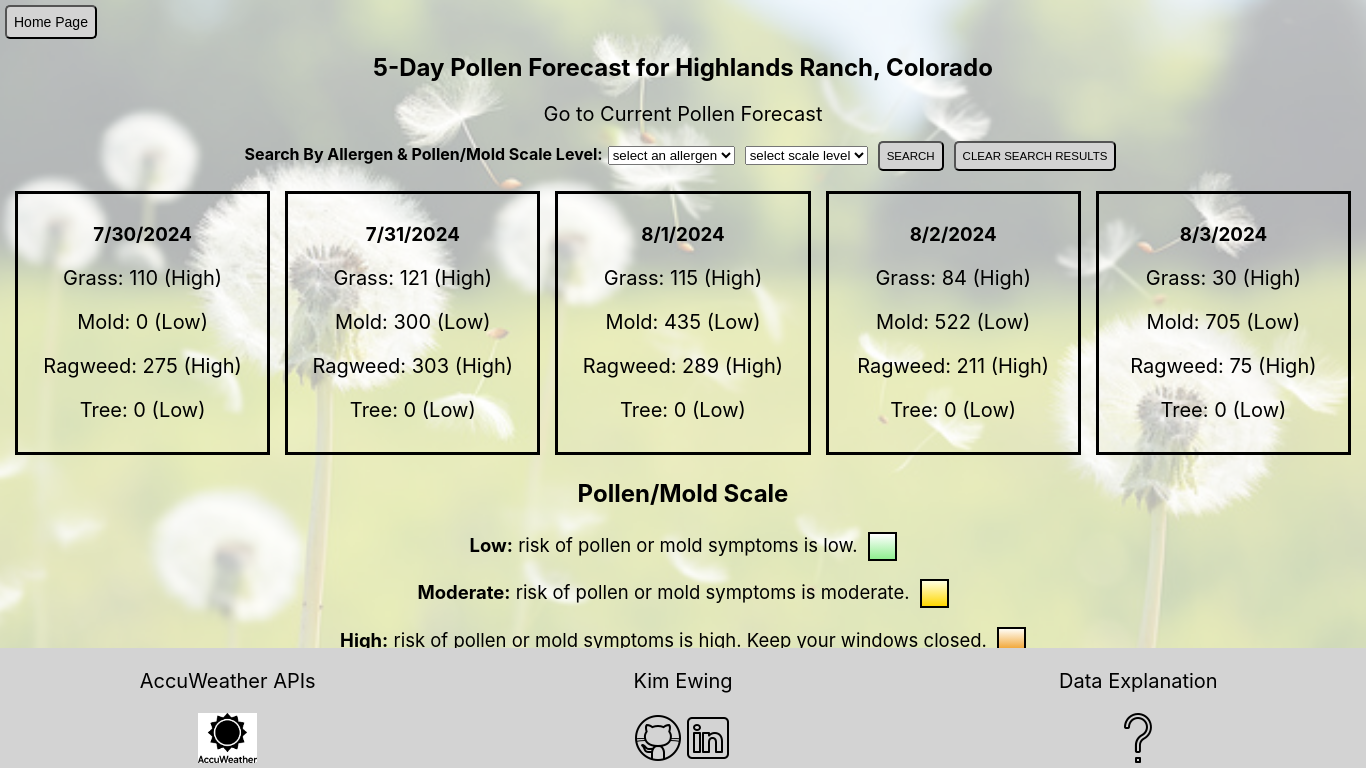
it: 5-Day Pollen Forecast Page Tests › should select an allergen and a pollen/mold scale level in the drop down and hit submit, returning a message if no pollen forecasts meet the search criteria
Select "Ragweed" in the dropdown with class "allergen-drop-down" at (672, 156), box [608,146,735,165]
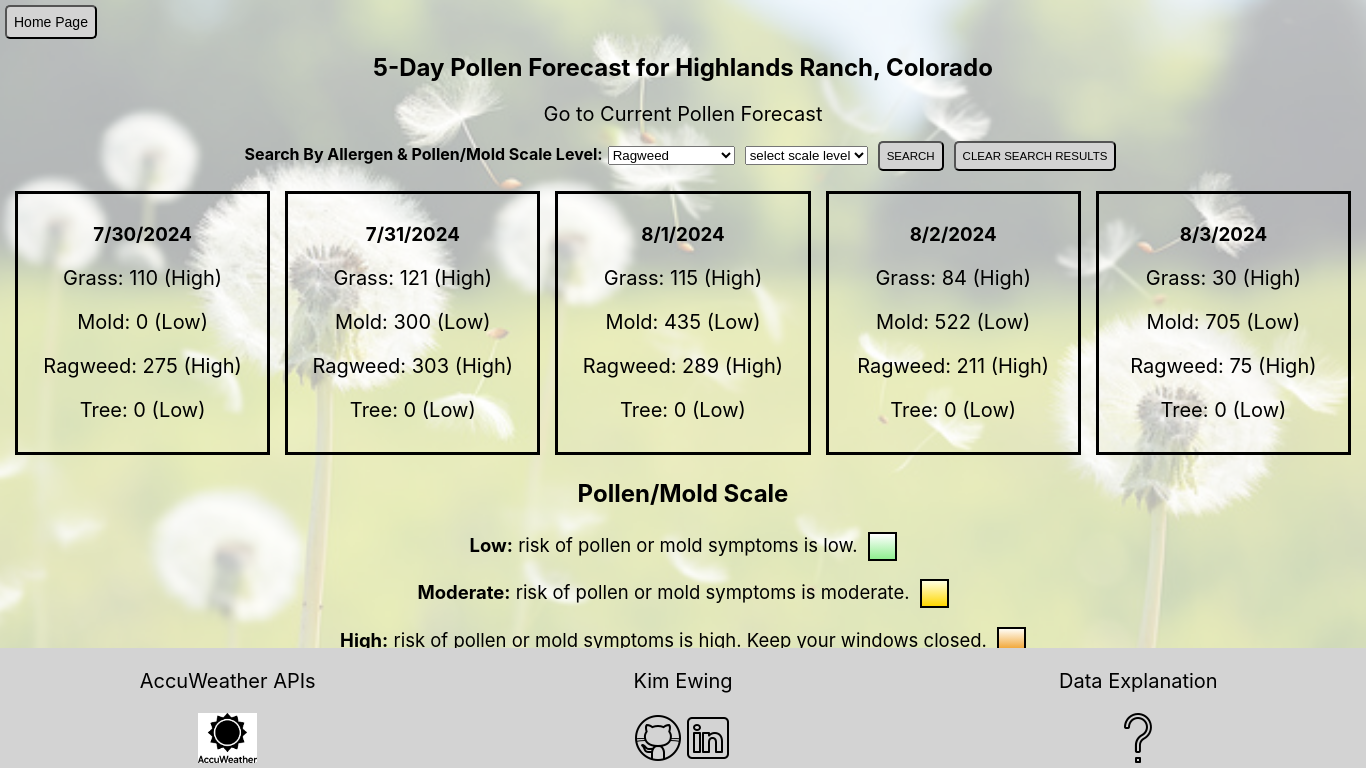
Select "Moderate" in the 2nd dropdown at (807, 156), box [745,146,868,165]
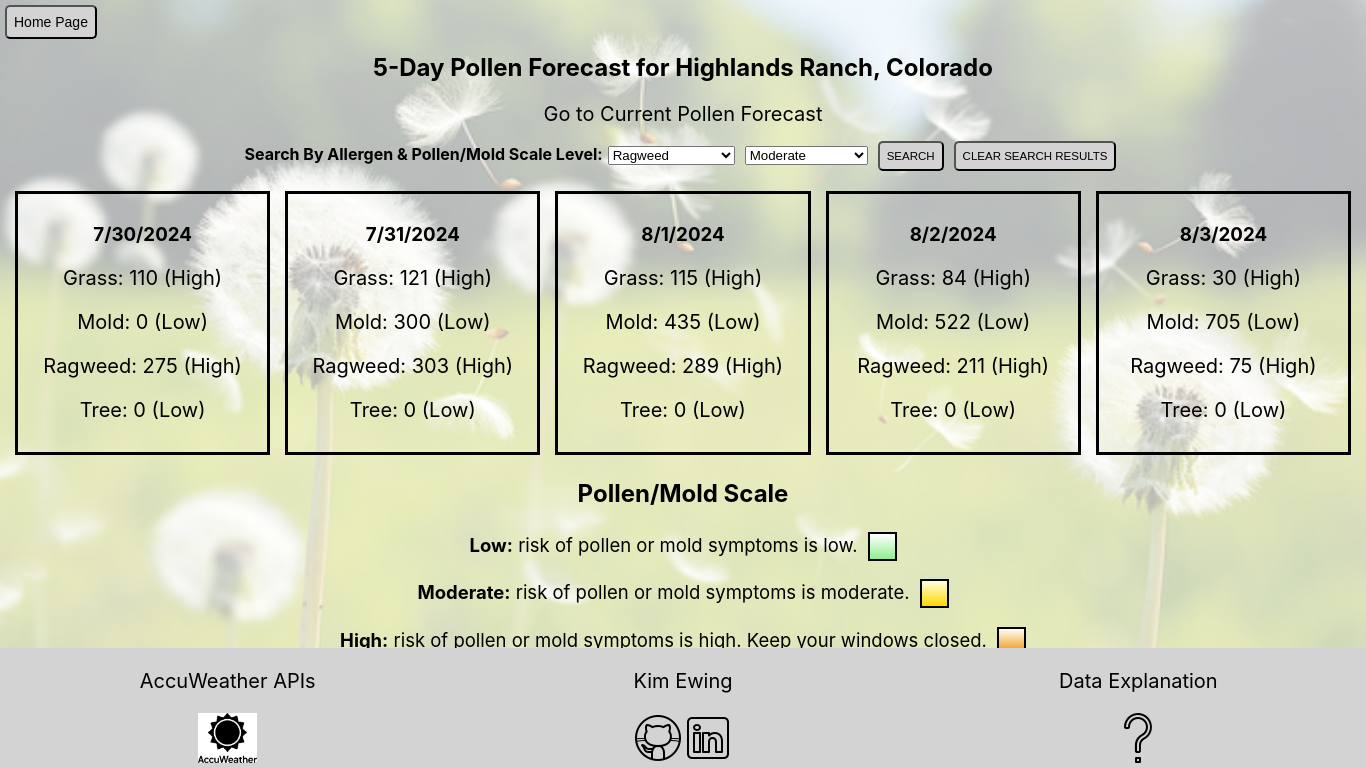
Click the button with class "search-button" at (911, 156), box [878,141,944,171]
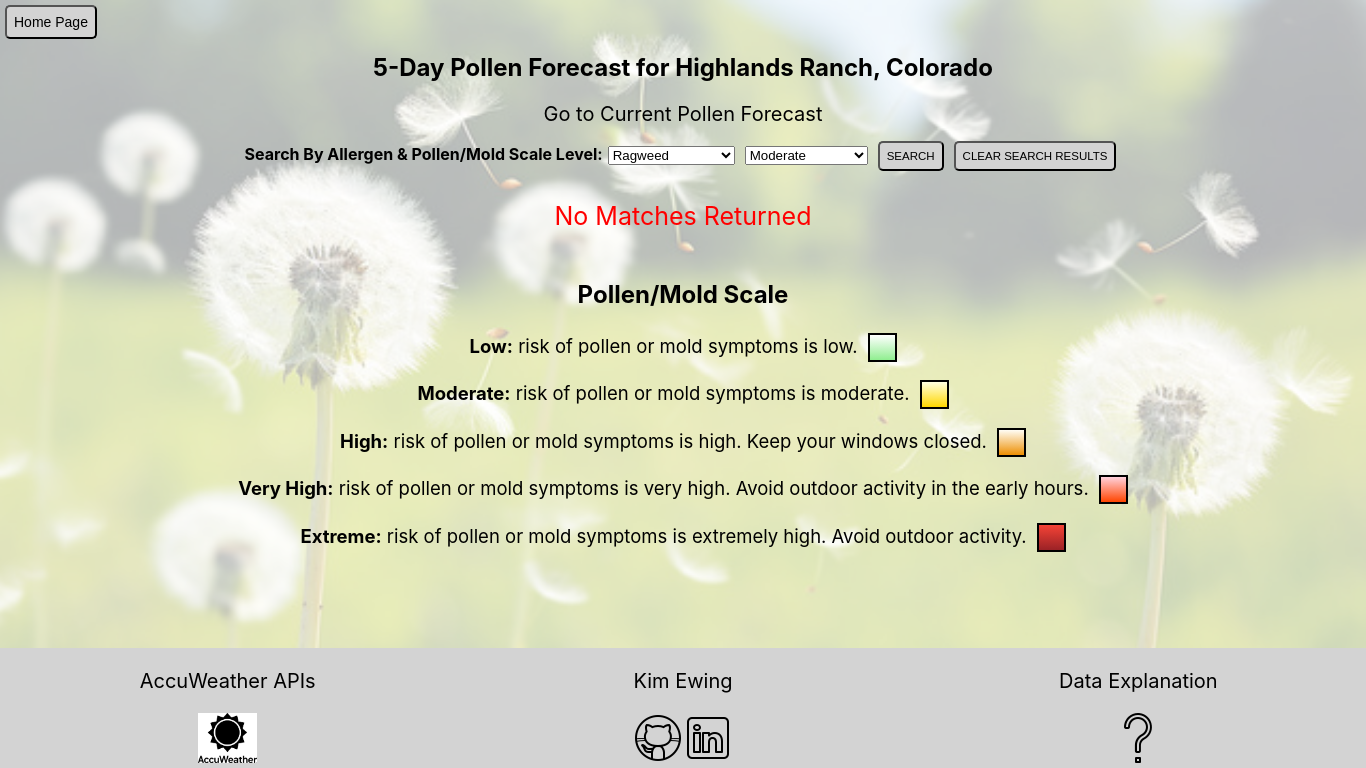
Expected: the text with class "search-results-error-message" reads "No Matches Returned", [555,201,812,231]
Expected: no elements with class "five-day-pollen-forecast-card" are shown
